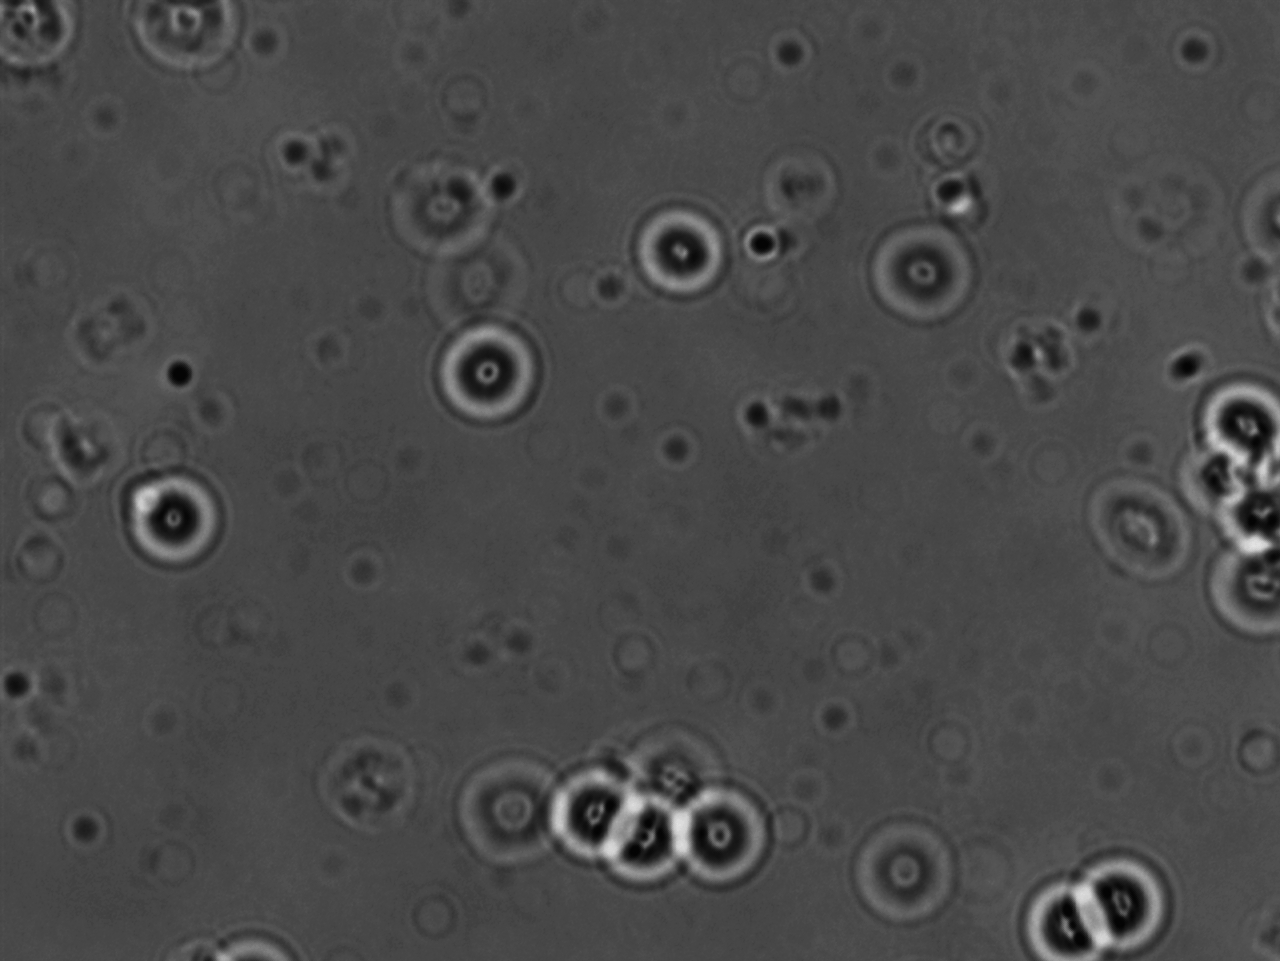depth:-8: (425, 311, 559, 436), (669, 772, 790, 898), (111, 460, 238, 577), (538, 749, 658, 868), (623, 190, 740, 303), (1059, 846, 1180, 946), (1011, 856, 1115, 961), (593, 788, 688, 897), (1195, 367, 1280, 482)
